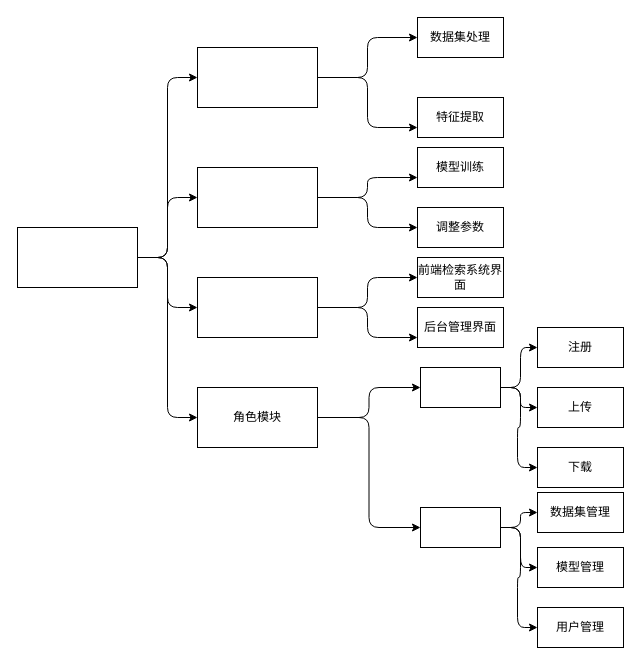
Some shapes in this 641 by 665 pixel diagram are drawn without their labels. The centre of each missing label's shape, as x and y in pixels:
数据集: the point at 257,77
深度神经网络模型设计: the point at 257,197
用户: the point at 460,387
离线手写中文签名检索系统: the point at 77,257
管理员: the point at 460,527
网页搭建: the point at 257,307
